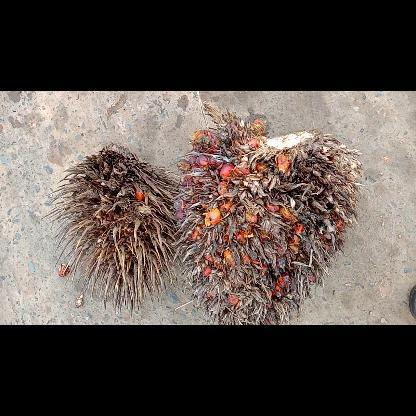Janjang kosong: (43, 144, 185, 314)
Terlalu masak: (170, 104, 362, 324)
